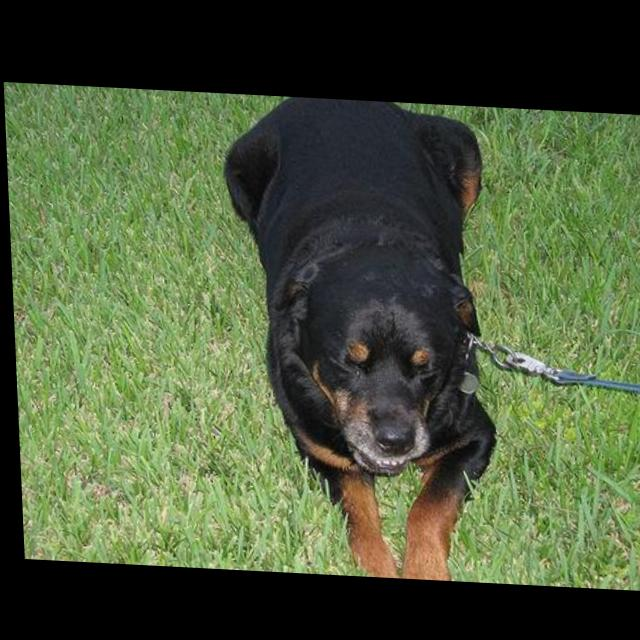rottweiler: (220, 91, 502, 579)
